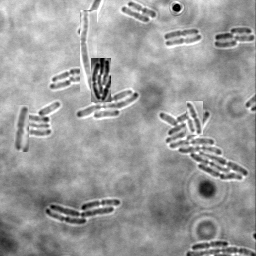Dividing: (80, 10, 97, 92), (14, 105, 29, 152), (186, 101, 203, 135), (128, 1, 157, 18), (166, 34, 202, 47), (164, 28, 200, 39), (52, 67, 80, 81), (192, 239, 229, 249)
Microcolony: (158, 109, 249, 180), (76, 88, 139, 119), (45, 199, 121, 224), (18, 101, 61, 136), (91, 58, 111, 102), (214, 27, 255, 48)
Rod: (121, 5, 150, 23), (50, 79, 72, 89), (69, 73, 80, 82)
